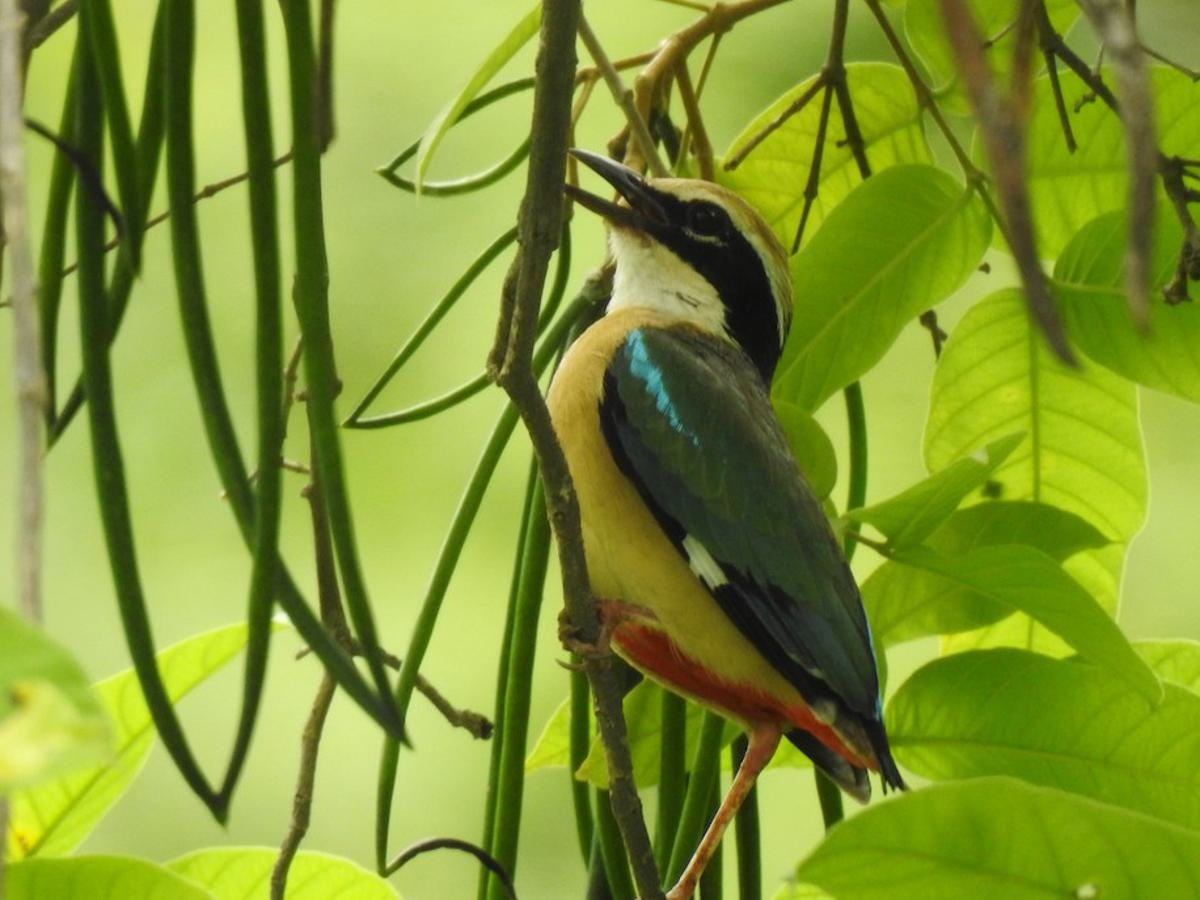pitta: (531, 104, 928, 810)
